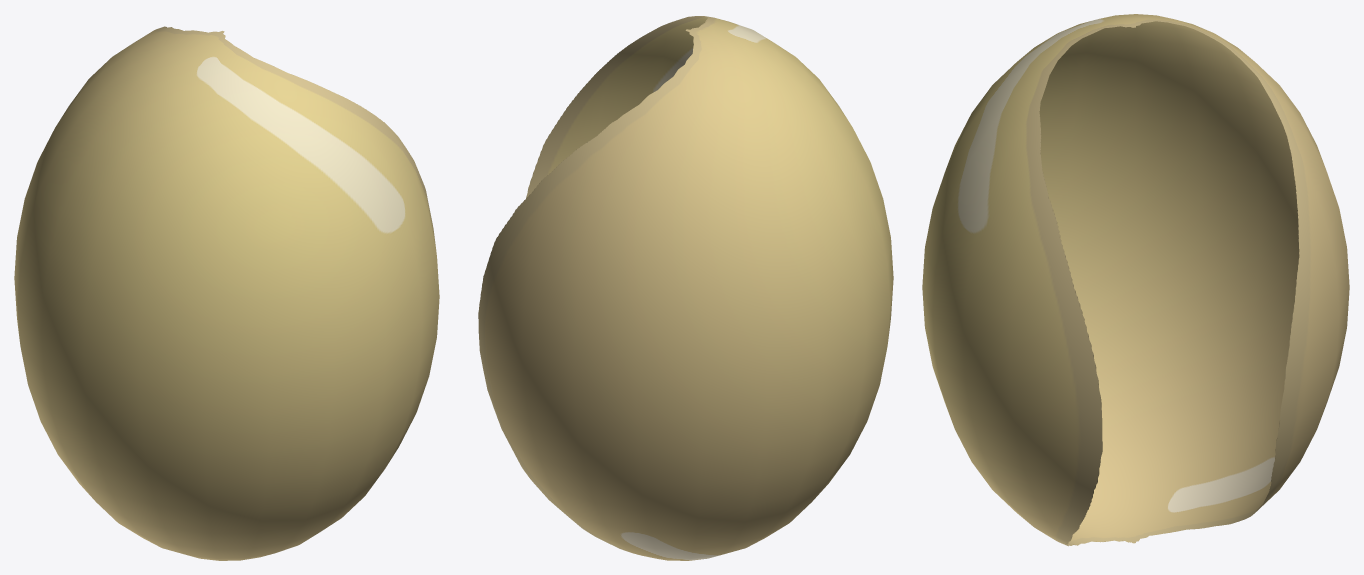
The model's file is Egg.fbx.
3 views of the same model, side by side, from view 1: azimuth 30°, elevation 25°; view 2: azimuth 150°, elevation 25°; view 3: azimuth 270°, elevation 25° (orthographic).
Parts seen in each view (by area): view 1: pSphere1; view 2: pSphere1; view 3: pSphere1.
Part boxes in pixels (<box>): pSphere1: <box>14,26,439,560</box>; pSphere1: <box>478,16,893,560</box>; pSphere1: <box>922,14,1349,546</box>.
Size of the model in its own units: 3 by 4 by 3.
Materials: 1 (1 with a texture image).
